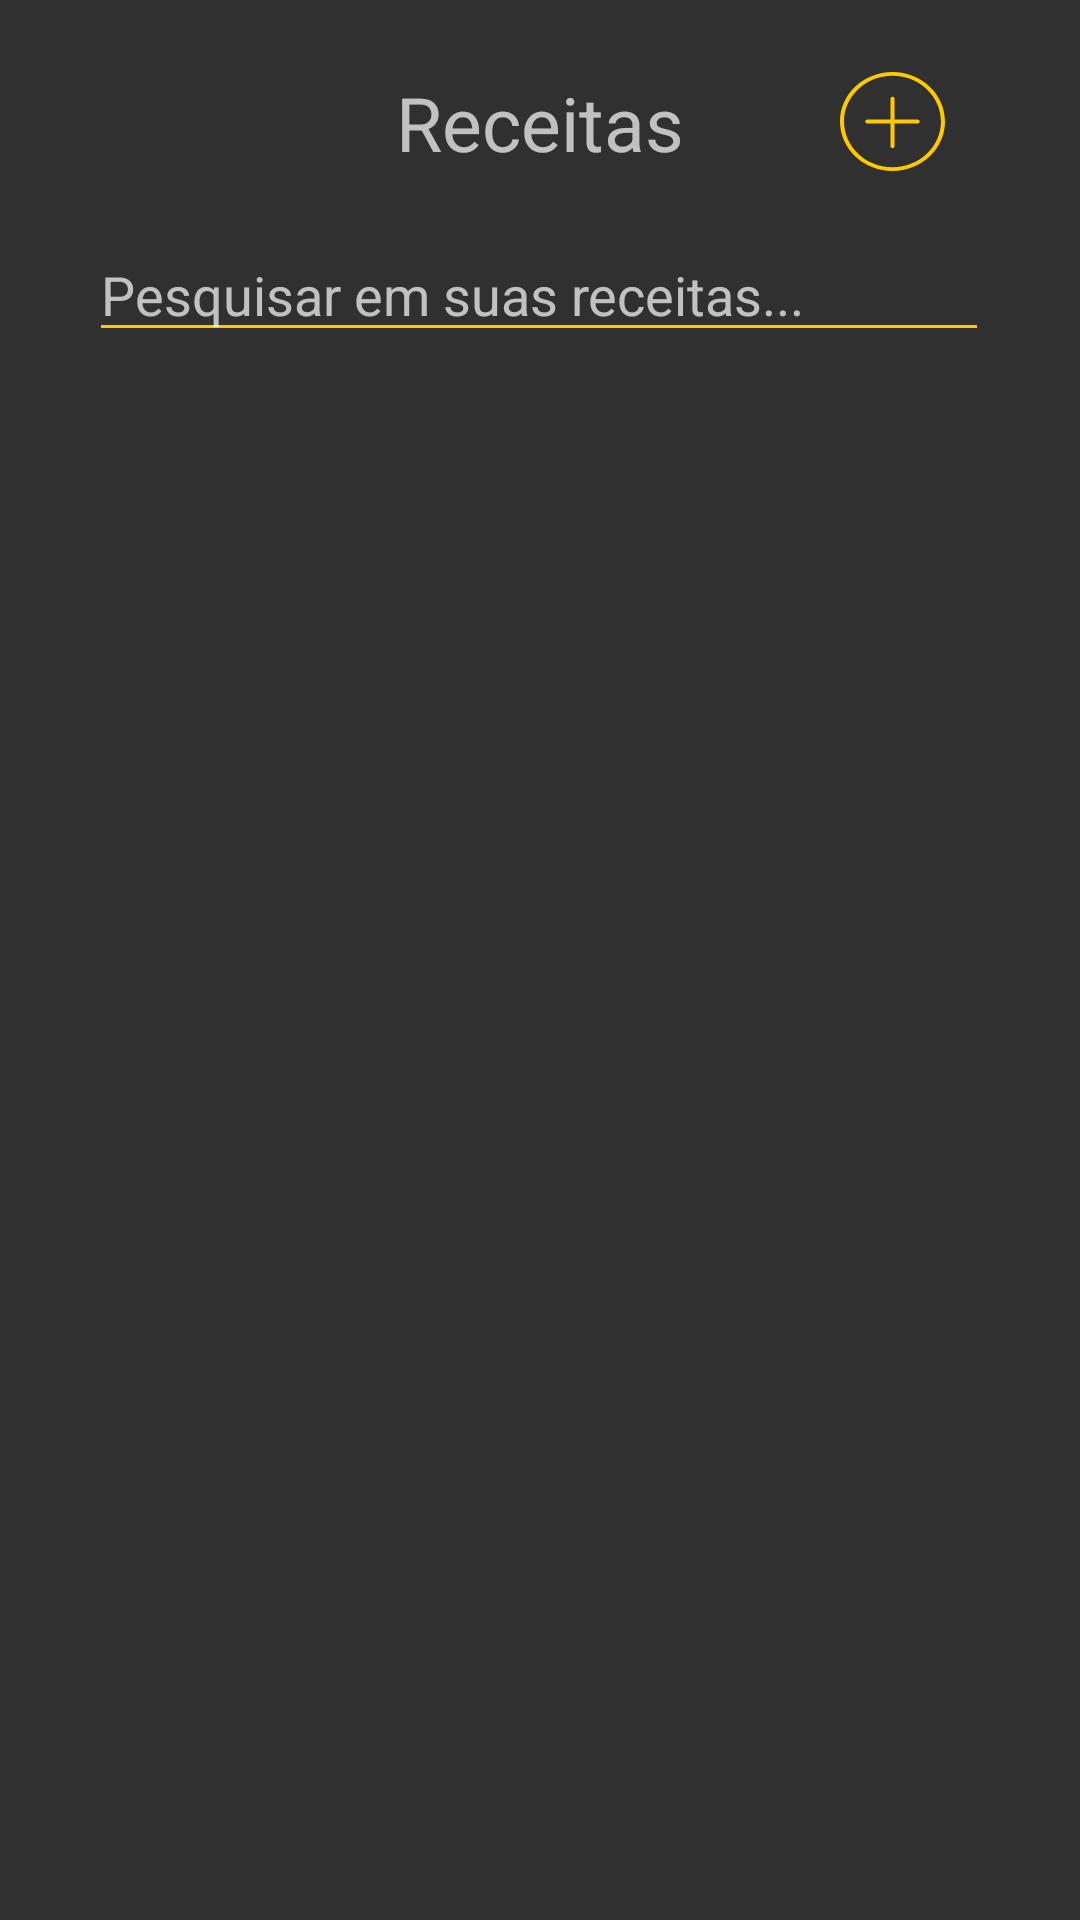

Icons on this 1080 × 1920 Android screen, each with its box as bbox(x1, y1, x2, y2):
plus: bbox(840, 72, 945, 171)
